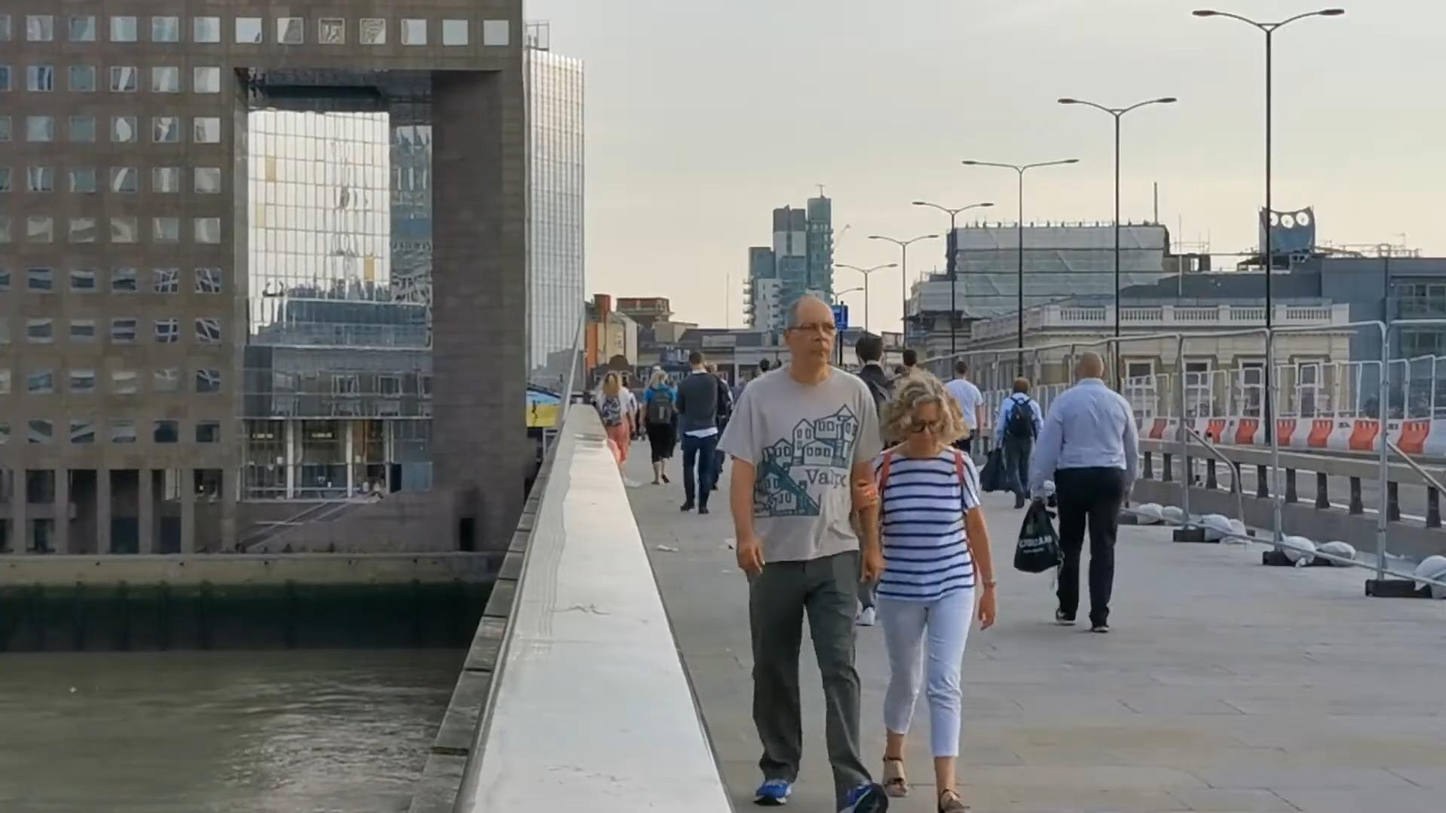no-helmet: (881, 368, 970, 454), (783, 296, 838, 365), (855, 336, 884, 369), (1079, 351, 1105, 380), (602, 370, 621, 394), (903, 349, 918, 367), (953, 361, 967, 380), (689, 352, 704, 369)
